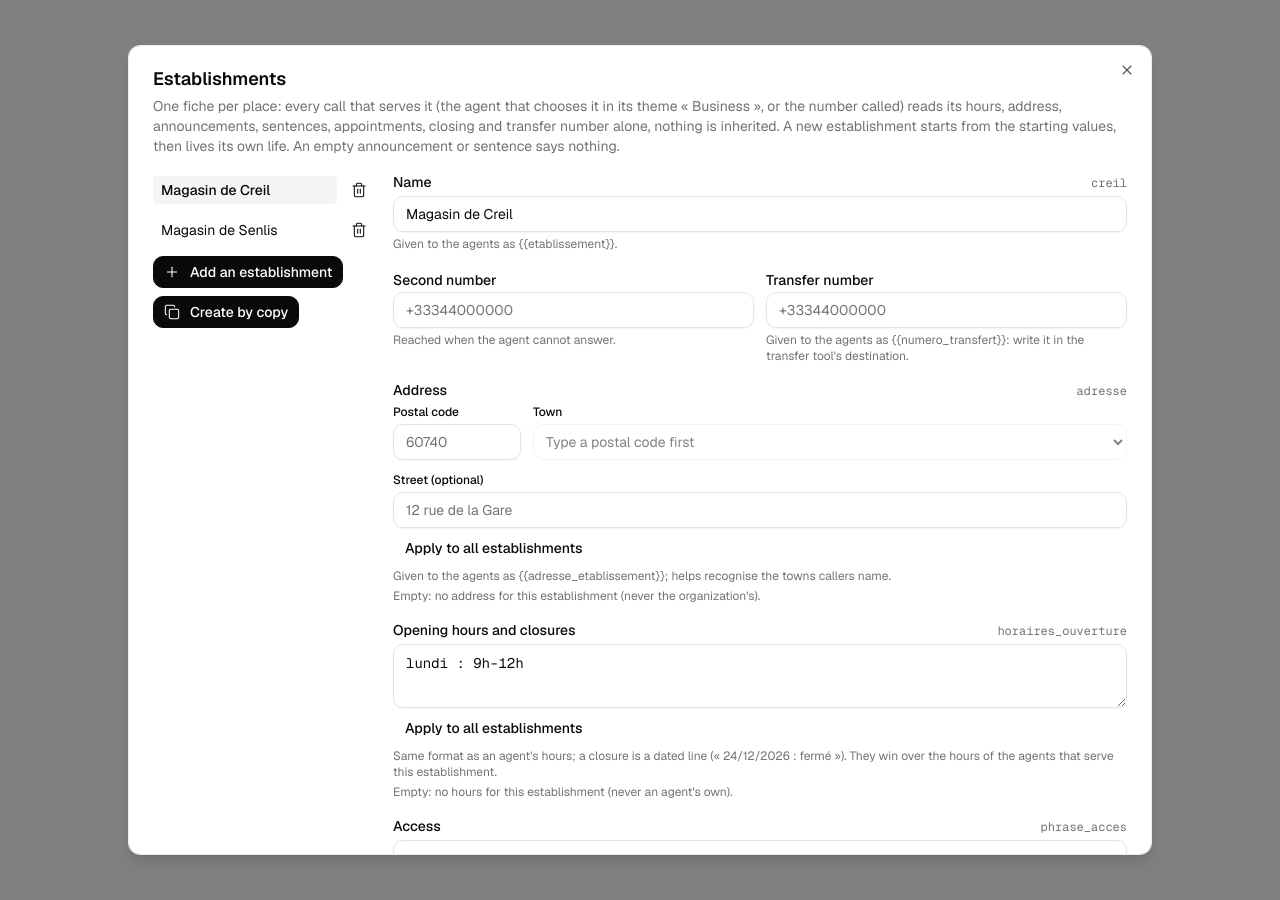
Test: [.mark] Apply to all establishments (D152) › is off while something waits to be saved: the saved value is the one copied
Expected: the button with test id "appliquer-a-tous-fiche-horaires_ouverture" is enabled, [393, 712, 594, 744]
Step 1. Replace the text in the text box with id "etablissement-horaires" with "lundi : 8h-12h" → (760, 676), box [393, 644, 1127, 708]
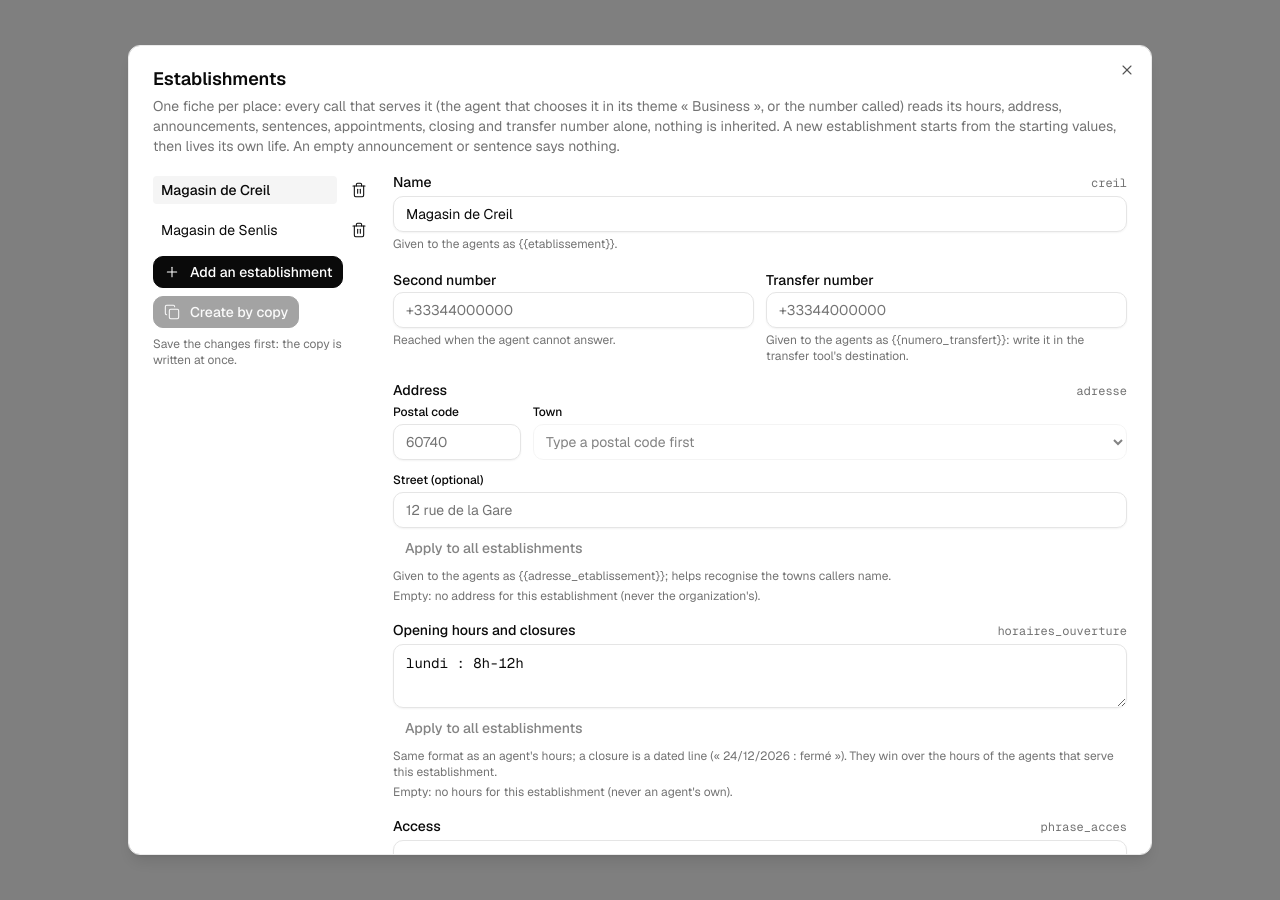
Expected: the button with test id "appliquer-a-tous-fiche-horaires_ouverture" is disabled, [393, 712, 594, 744]
